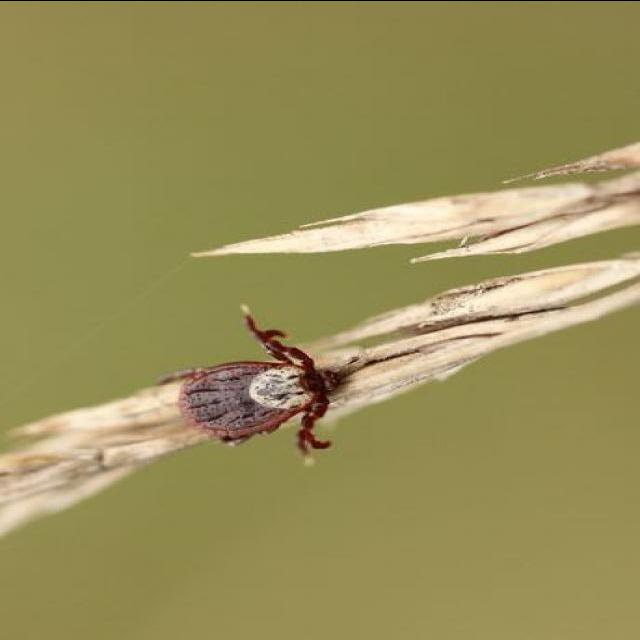Dermacentor Reticulatus-F: (156, 311, 340, 457)
